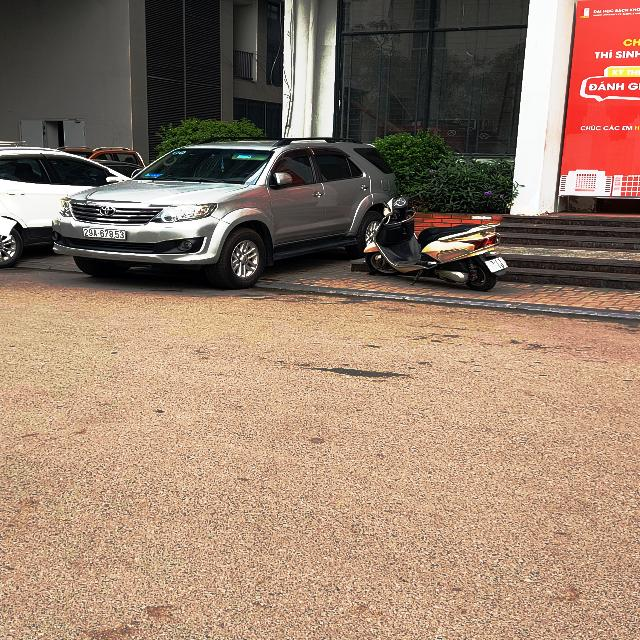license_plate: (84, 228, 127, 241)
